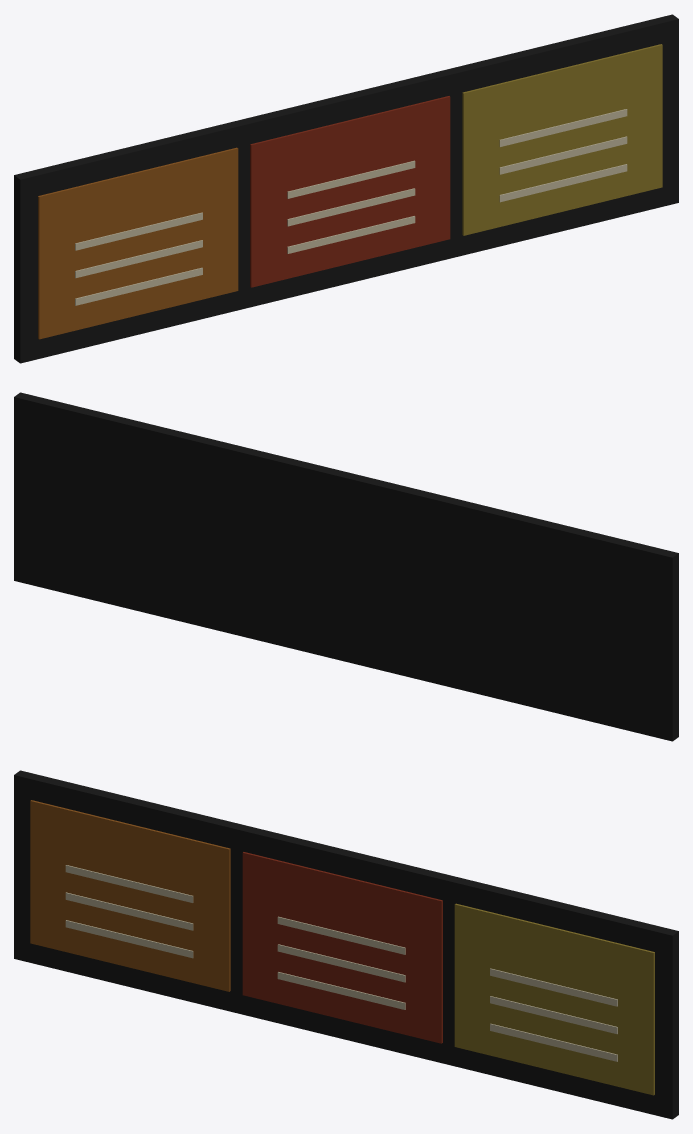
File: menu_board_3.glb
The picture shows the model from 3 angles, top to bottom: view 1: azimuth 30°, elevation 25°; view 2: azimuth 150°, elevation 25°; view 3: azimuth 330°, elevation 25°; orthographic projection.
Parts seen in each view (by area): view 1: menu_board_3; view 2: menu_board_3; view 3: menu_board_3.
Boxes of the visible parts, bbox=[...] form: menu_board_3: bbox=[14, 14, 678, 363]; menu_board_3: bbox=[14, 392, 678, 741]; menu_board_3: bbox=[14, 770, 678, 1119].
Size of the model in its own units: 3 by 0.8 by 0.0645.
